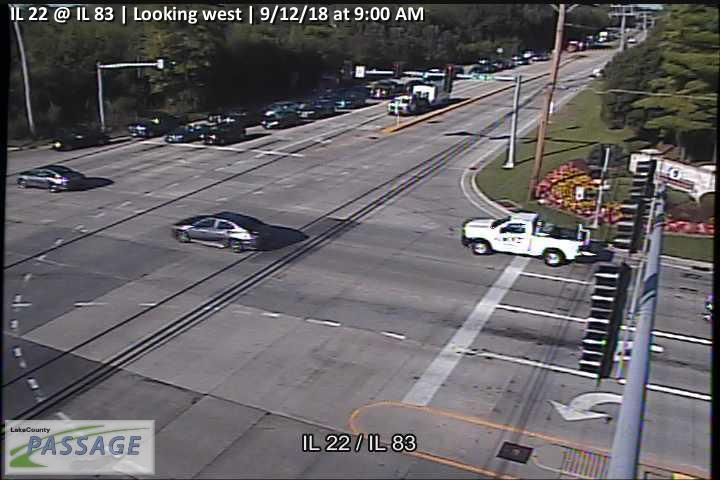Sedan: (170, 211, 280, 253), (15, 164, 86, 193), (126, 111, 181, 140), (53, 125, 109, 150), (201, 119, 247, 147), (161, 122, 211, 145), (258, 106, 296, 128)
Truck: (458, 214, 591, 265), (386, 69, 452, 115)
